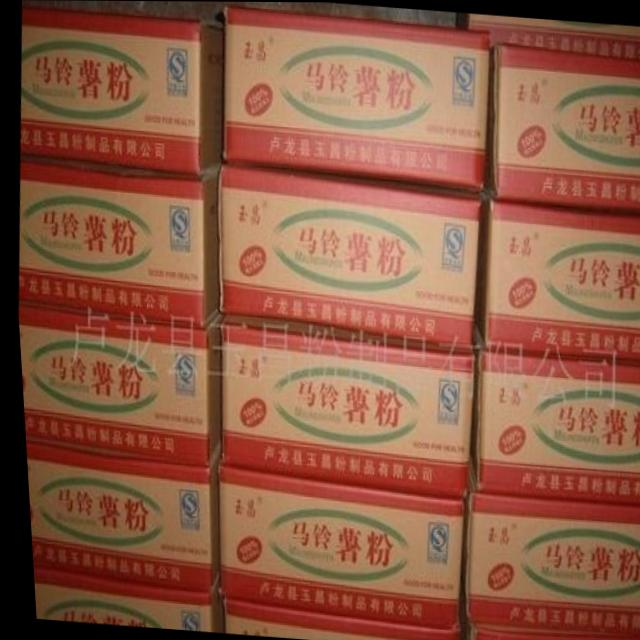box: (215, 160, 479, 352), (221, 3, 489, 189), (215, 316, 470, 497), (211, 458, 460, 630), (15, 152, 219, 327), (18, 6, 224, 173), (14, 300, 217, 465), (462, 322, 640, 505), (456, 470, 640, 635), (21, 441, 214, 593), (471, 187, 640, 359), (482, 42, 640, 211), (27, 569, 212, 632), (213, 595, 452, 640), (468, 12, 640, 59), (458, 621, 640, 640)
